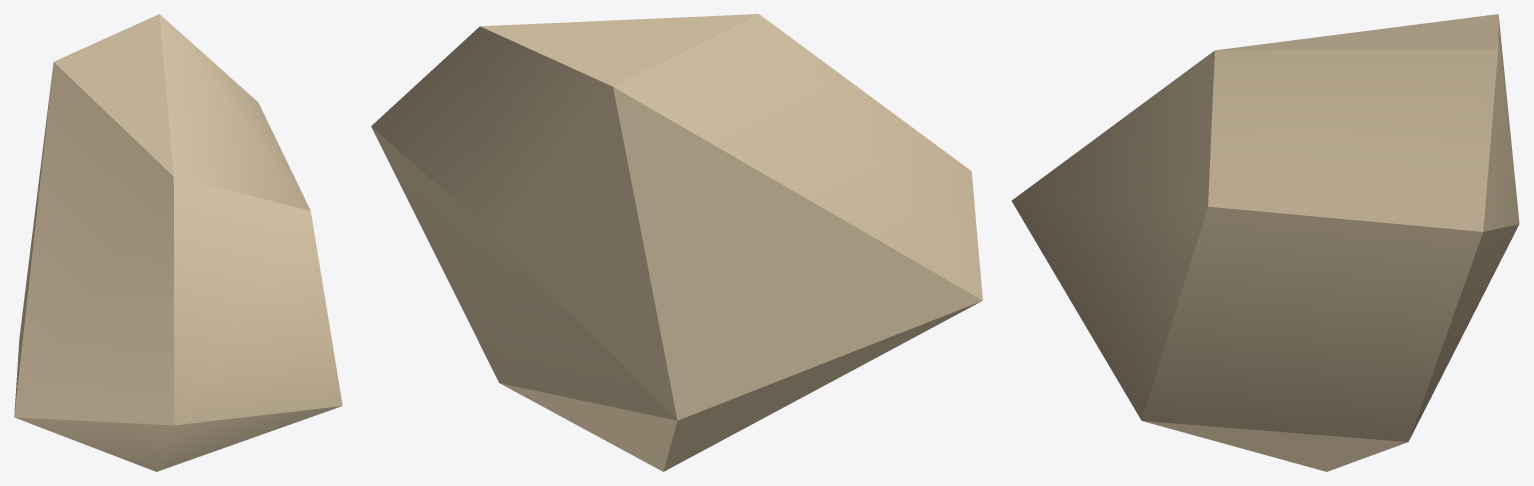
File: Piedra1.fbx
3 views of the same model, side by side, from view 1: azimuth 30°, elevation 25°; view 2: azimuth 150°, elevation 25°; view 3: azimuth 270°, elevation 25° (orthographic). The views are drawn at different scales.
Visible parts, largest first — view 1: polySurface1; view 2: polySurface1; view 3: polySurface1.
Part boxes in pixels (x1,y1,x2,y2): polySurface1: (14,14,342,471); polySurface1: (371,14,982,471); polySurface1: (1011,14,1519,471).
Size of the model in its own units: 0.7885 by 0.8005 by 0.7909.
